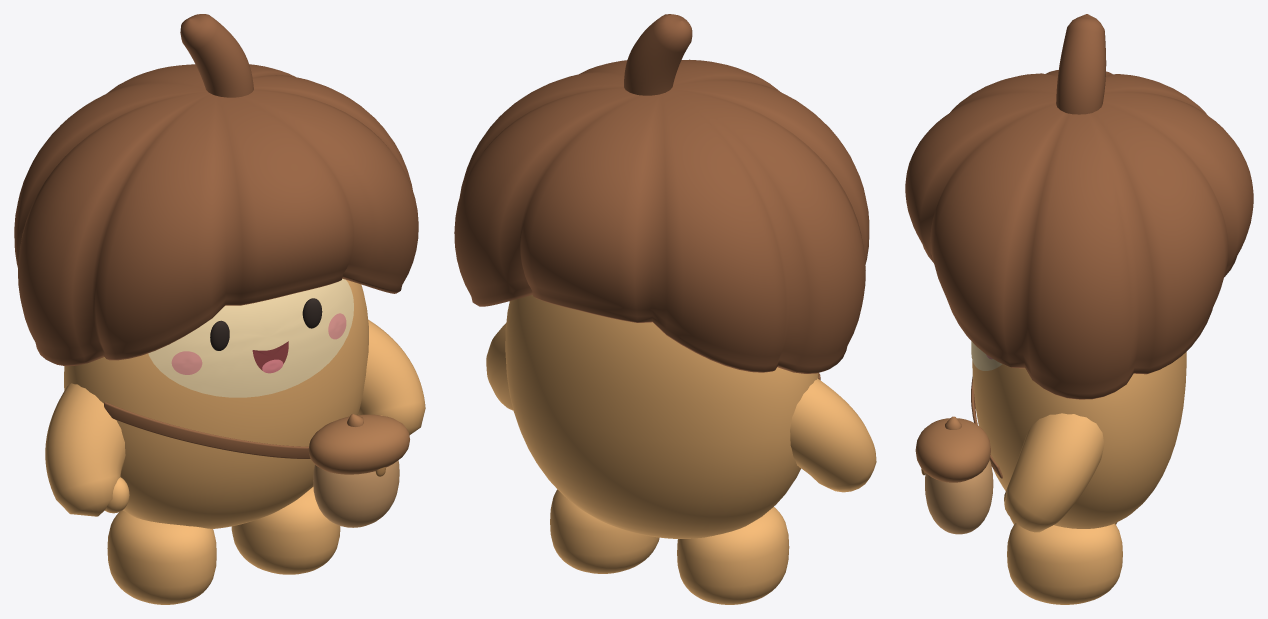
File: moa-playmate.glb
3 views of the same model, side by side, from view 1: azimuth 30°, elevation 25°; view 2: azimuth 150°, elevation 25°; view 3: azimuth 270°, elevation 25° (orthographic). The views are drawn at different scales.
Parts seen in each view (by area): view 1: Moa.AcornCap, Moa.Body, Moa.CreamFace, Moa.Foot.L, Moa.Arm.L, Moa.Foot.R, Moa.PouchCap, Moa.Arm.R, Moa.SeedPouch, Moa.CapStem, Moa.SatchelStrap, Moa.Blush.L (+1 smaller); view 2: Moa.AcornCap, Moa.Body, Moa.Foot.L, Moa.Arm.L, Moa.Foot.R, Moa.CapStem, Moa.Arm.R; view 3: Moa.AcornCap, Moa.Body, Moa.Arm.R, Moa.Foot.R, Moa.CapStem, Moa.PouchCap, Moa.SeedPouch.
Boxes of the visible parts, x1,y1,x2,y2 form: Moa.AcornCap: [14, 64, 418, 366]; Moa.Body: [64, 280, 368, 528]; Moa.CreamFace: [148, 278, 353, 397]; Moa.Foot.L: [107, 510, 216, 604]; Moa.Arm.L: [45, 383, 125, 516]; Moa.Foot.R: [231, 487, 340, 574]; Moa.PouchCap: [308, 414, 409, 474]; Moa.Arm.R: [358, 320, 425, 435]; Moa.SeedPouch: [313, 460, 399, 527]; Moa.CapStem: [180, 14, 253, 97]; Moa.SatchelStrap: [104, 402, 310, 458]; Moa.Blush.L: [171, 351, 202, 374]; Moa.AcornCap: [454, 59, 869, 373]; Moa.Body: [505, 295, 818, 538]; Moa.Foot.L: [677, 507, 789, 604]; Moa.Arm.L: [790, 378, 876, 492]; Moa.Foot.R: [550, 489, 659, 573]; Moa.CapStem: [624, 14, 692, 95]; Moa.Arm.R: [486, 323, 513, 410]; Moa.AcornCap: [905, 70, 1253, 399]; Moa.Body: [972, 352, 1186, 528]; Moa.Arm.R: [1004, 413, 1104, 532]; Moa.Foot.R: [1007, 523, 1122, 604]; Moa.CapStem: [1056, 14, 1106, 114]; Moa.PouchCap: [915, 418, 990, 482]; Moa.SeedPouch: [925, 459, 993, 534].
Bounding box in the file's own units: 0.9559 × 1.36 × 0.7934.
